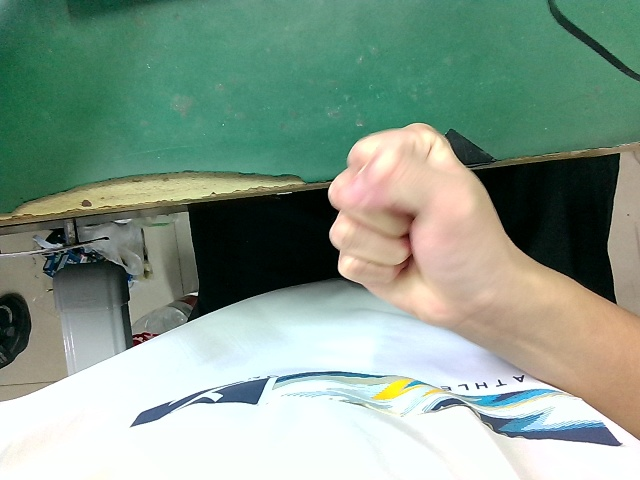stone: (323, 118, 512, 336)
